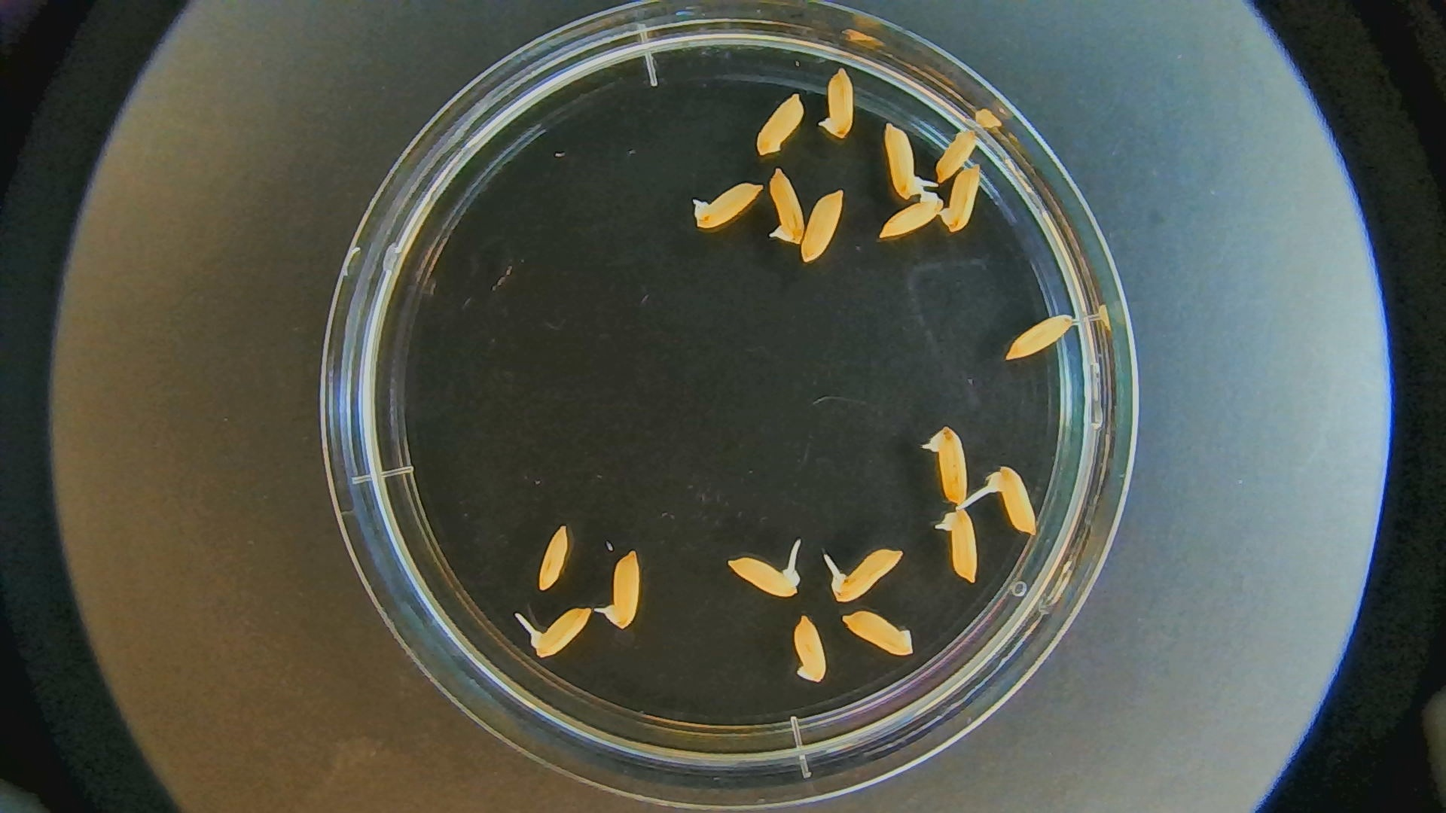no: (687, 180, 767, 233), (1004, 311, 1081, 362), (802, 181, 847, 267), (813, 61, 857, 148), (923, 117, 979, 184), (936, 160, 985, 236), (752, 88, 806, 154), (878, 193, 943, 244), (845, 610, 912, 659), (532, 518, 573, 594), (791, 609, 830, 688)
yes: (880, 115, 936, 198), (834, 548, 905, 604), (931, 504, 980, 585), (762, 166, 806, 247), (991, 467, 1039, 534), (929, 426, 970, 504), (734, 556, 802, 602), (535, 604, 590, 660), (607, 549, 643, 631)
